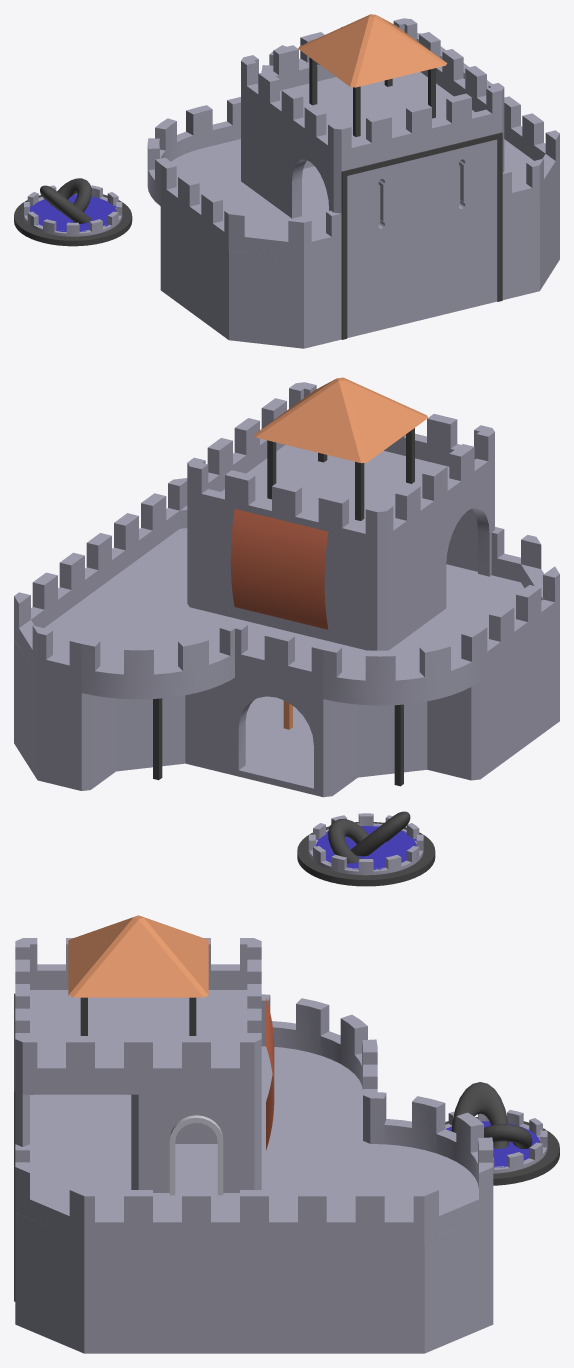
File: HotelVille.fbx
3 renders of one model, top to bottom at view 1: azimuth 30°, elevation 25°; view 2: azimuth 150°, elevation 25°; view 3: azimuth 270°, elevation 25°, orthographic. The views are drawn at different scales.
Visible parts, largest first — view 1: wall_straight_149, wall_cornerDiagonal_143, wall_slit_208, roof_point_200, wall_slit_207, battlement_corner_192, floor_square_198, battlement_corner_195, wall_cornerDiagonal_142, battlement_cornerDiagonal_182, wall_straight_147, battlement_corner_193 (+26 smaller); view 2: wall_cornerDiagonal_144, wall_corner_206, wall_cornerDiagonal_145, roof_canvas_197, roof_point_200, floor_square_169, wall_cornerDiagonal_140, battlement_corner_193, battlement_cornerRound%_184, battlement_cornerRound%_185, floor_square_198, battlement_corner_194 (+35 smaller); view 3: wall_straight_148, wall_cornerDiagonal_140, wall_cornerDiagonal_142, floor_square_203, floor_square_198, floor_square_172, wall_doorwayRound_201, roof_point_200, battlement_corner_195, battlement_corner_194, battlement_cornerRound%_185, battlement_cornerDiagonal_186 (+21 smaller).
Boxes of the visible parts, x1,y1,x2,y2 form: wall_straight_149: (347, 217, 497, 337); wall_cornerDiagonal_143: (207, 240, 341, 348); wall_slit_208: (333, 158, 421, 253); roof_point_200: (298, 14, 447, 87); wall_slit_207: (422, 129, 504, 235); battlement_corner_192: (287, 91, 423, 171); floor_square_198: (280, 72, 474, 142); battlement_corner_195: (416, 53, 504, 151); wall_cornerDiagonal_142: (502, 176, 559, 298); battlement_cornerDiagonal_182: (207, 195, 341, 264); wall_straight_147: (160, 206, 206, 323); battlement_corner_193: (241, 45, 329, 136); wall_cornerDiagonal_144: (323, 681, 480, 797); wall_corner_206: (283, 521, 440, 650); wall_cornerDiagonal_145: (90, 681, 229, 789); roof_canvas_197: (230, 509, 328, 629); roof_point_200: (254, 377, 427, 463); floor_square_169: (45, 539, 195, 644); wall_cornerDiagonal_140: (14, 645, 90, 790); battlement_corner_193: (281, 468, 440, 561); battlement_cornerRound%_184: (321, 628, 480, 705); battlement_cornerRound%_185: (79, 623, 238, 699); floor_square_198: (221, 445, 449, 527); battlement_corner_194: (187, 422, 291, 525); wall_straight_148: (138, 1248, 370, 1353); wall_cornerDiagonal_140: (370, 1220, 493, 1353); wall_cornerDiagonal_142: (15, 1219, 138, 1353); floor_square_203: (30, 1092, 268, 1190); floor_square_198: (30, 990, 247, 1062); floor_square_172: (261, 1091, 377, 1190); wall_doorwayRound_201: (131, 1092, 261, 1195); roof_point_200: (68, 915, 208, 997); battlement_corner_195: (15, 987, 145, 1094); battlement_corner_194: (131, 987, 261, 1094); battlement_cornerRound%_185: (363, 1092, 493, 1188); battlement_cornerDiagonal_186: (365, 1144, 493, 1248).
Bounding box in the file's own units: 47 × 34.1 × 47.12.
